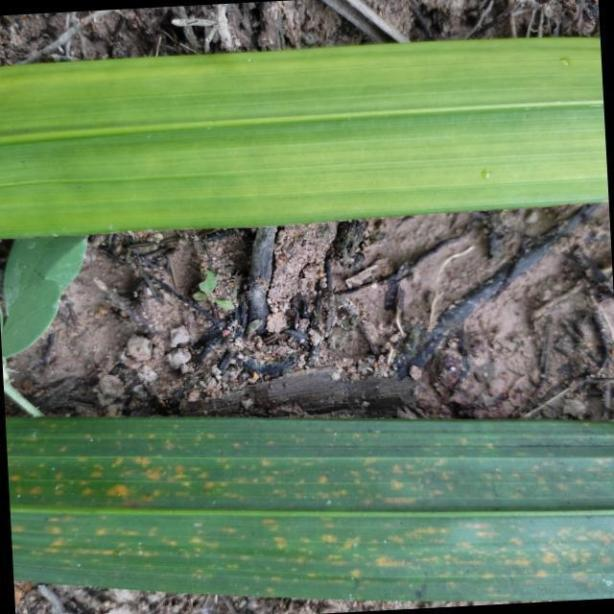nitrogen: (0, 38, 614, 240)
